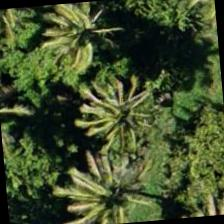Kelapa_Sawit: (90, 62, 188, 160), (80, 0, 178, 87), (39, 0, 135, 69), (72, 162, 168, 223), (0, 54, 50, 149)
